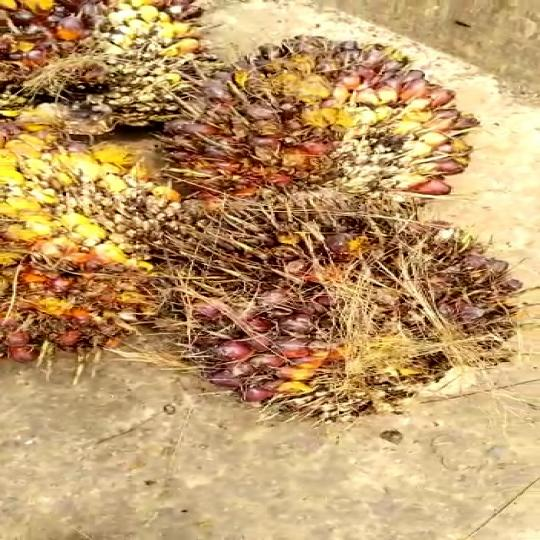masak: (168, 214, 510, 428), (130, 24, 455, 222), (0, 136, 183, 348), (0, 0, 221, 129)
